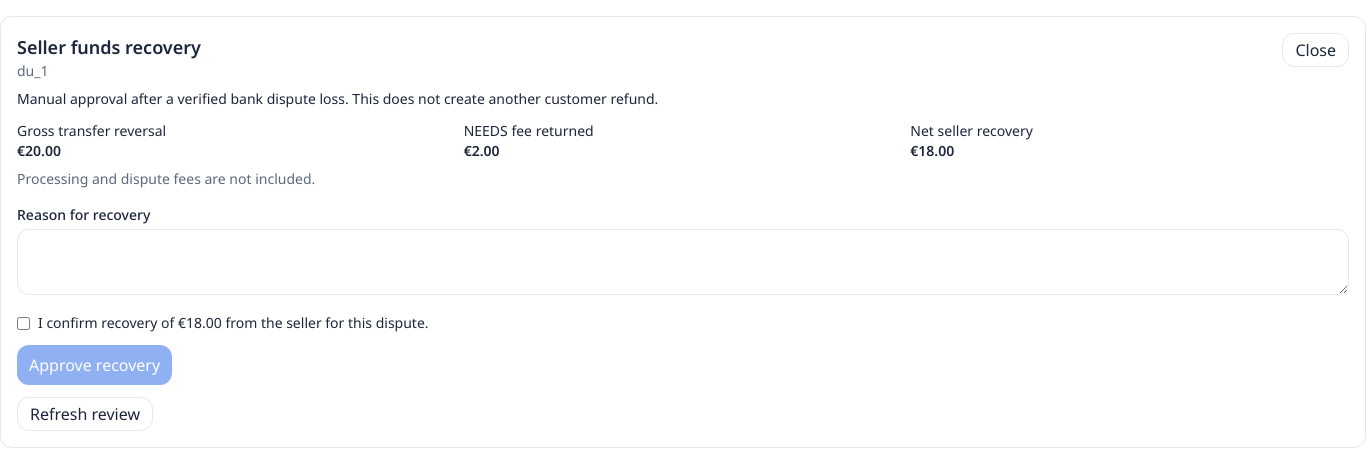
admin-approved seller recovery › previews authenticated exact bindings and requires reason plus explicit confirmation
The width and height of the screenshot is (1366, 465).
Expected: the text "€18.00" is shown, [910, 141, 954, 160]
Expected: the button "Approve recovery" is disabled, [17, 345, 172, 385]
Type "Confirmed lost chargeback" into the text box labelled "Reason for recovery" at (683, 262), box [17, 229, 1349, 295]
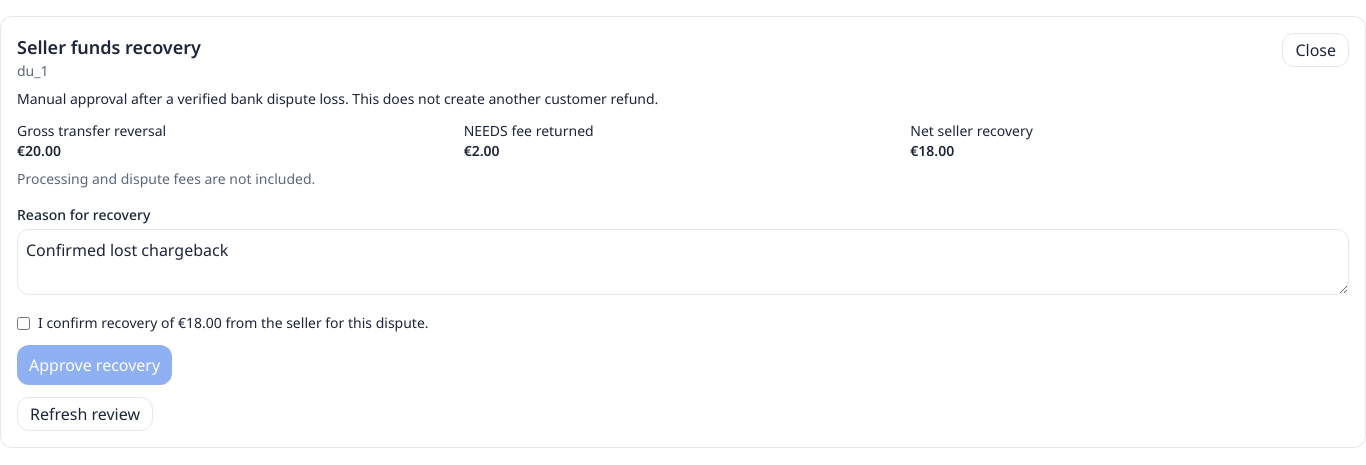
Expected: the button "Approve recovery" is disabled, [17, 345, 172, 385]
Click the checkbox at (24, 324), box [17, 317, 30, 330]
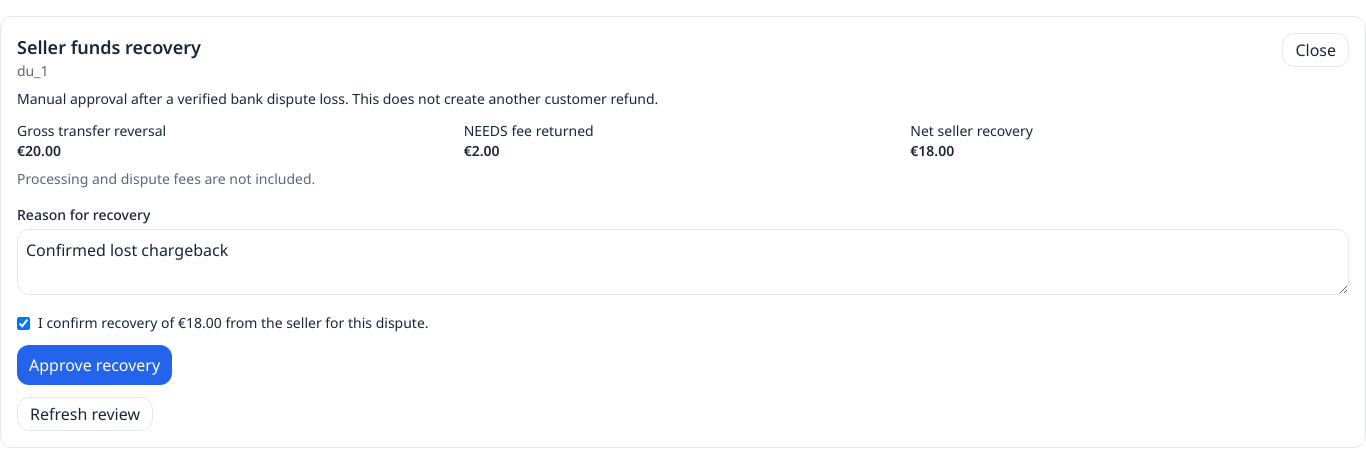
Now the button "Approve recovery" is enabled
Click the button "Approve recovery" at (95, 365), box [17, 345, 172, 385]
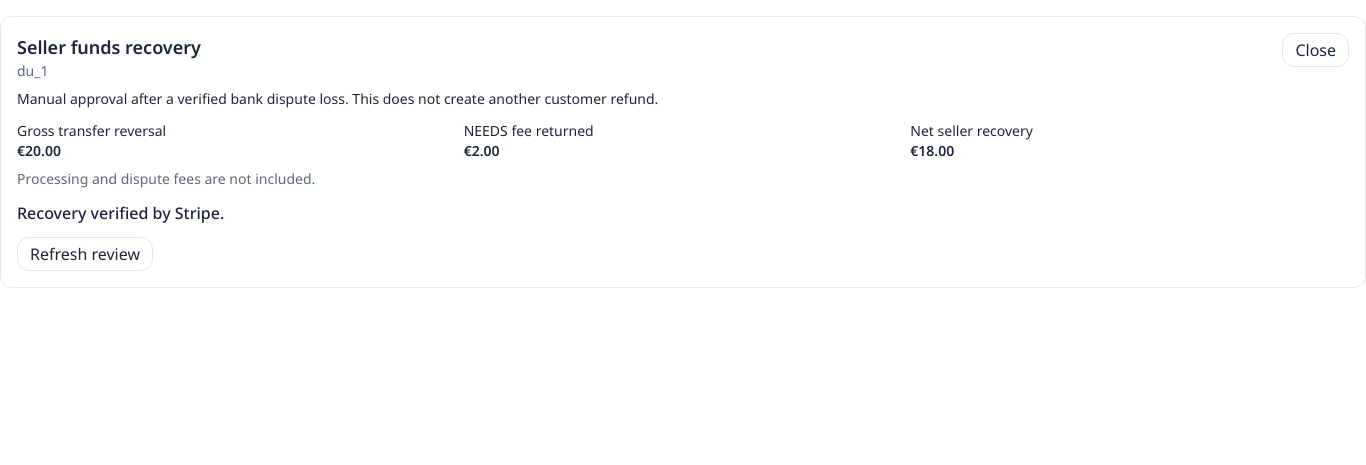
Now the message reads "Recovery verified by Stripe.", box [17, 202, 224, 224]
Now the button "Approve recovery" is gone
